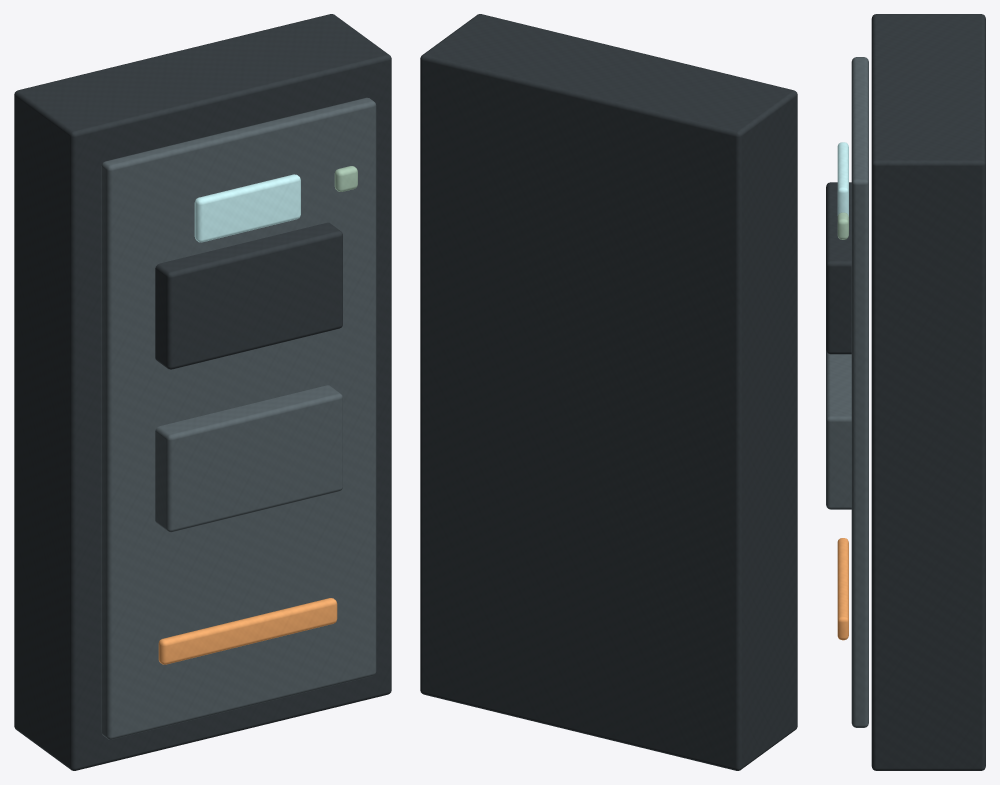
File: WallSpecimenDispenser.glb
The picture shows the model from 3 angles, left to right: view 1: azimuth 30°, elevation 25°; view 2: azimuth 150°, elevation 25°; view 3: azimuth 270°, elevation 25°; orthographic projection. The views are drawn at different scales.
Visible parts, largest first — view 1: WallSpecimenDispenser_Mesh; view 2: WallSpecimenDispenser_Mesh; view 3: WallSpecimenDispenser_Mesh.
Part boxes in pixels (x1,y1,x2,y2): WallSpecimenDispenser_Mesh: (14, 14, 391, 770); WallSpecimenDispenser_Mesh: (420, 14, 797, 770); WallSpecimenDispenser_Mesh: (826, 14, 985, 770).
Bounding box in the file's own units: 0.62 × 1.18 × 0.28.
5 materials, 5 textured.
